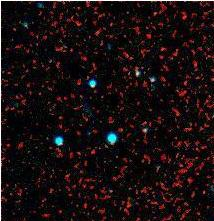star: (51, 160, 81, 190)
